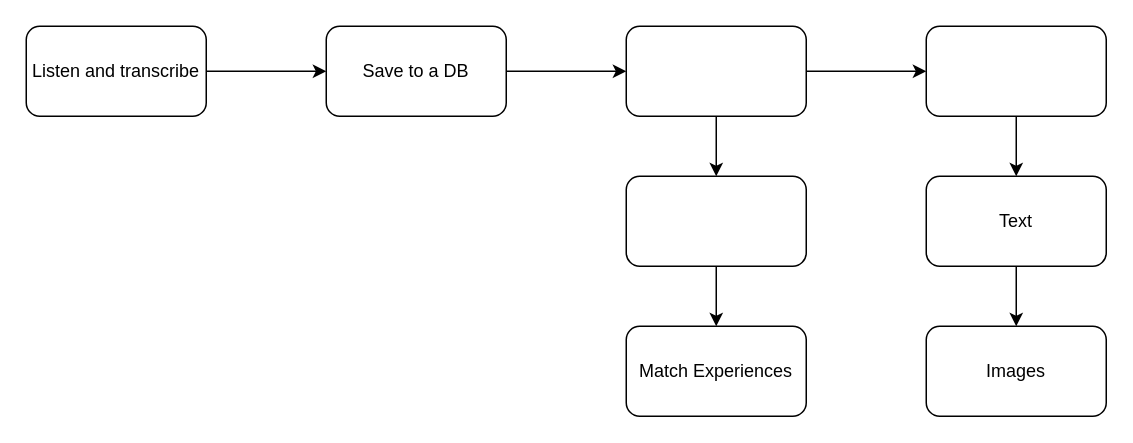
This 1133x443 diagram has some shape labels left out. Each missing label, with the box of its shape:
Display: (925, 25, 1106, 116)
Match Skills: (625, 175, 806, 266)
Yaml Skill: (625, 25, 806, 116)
